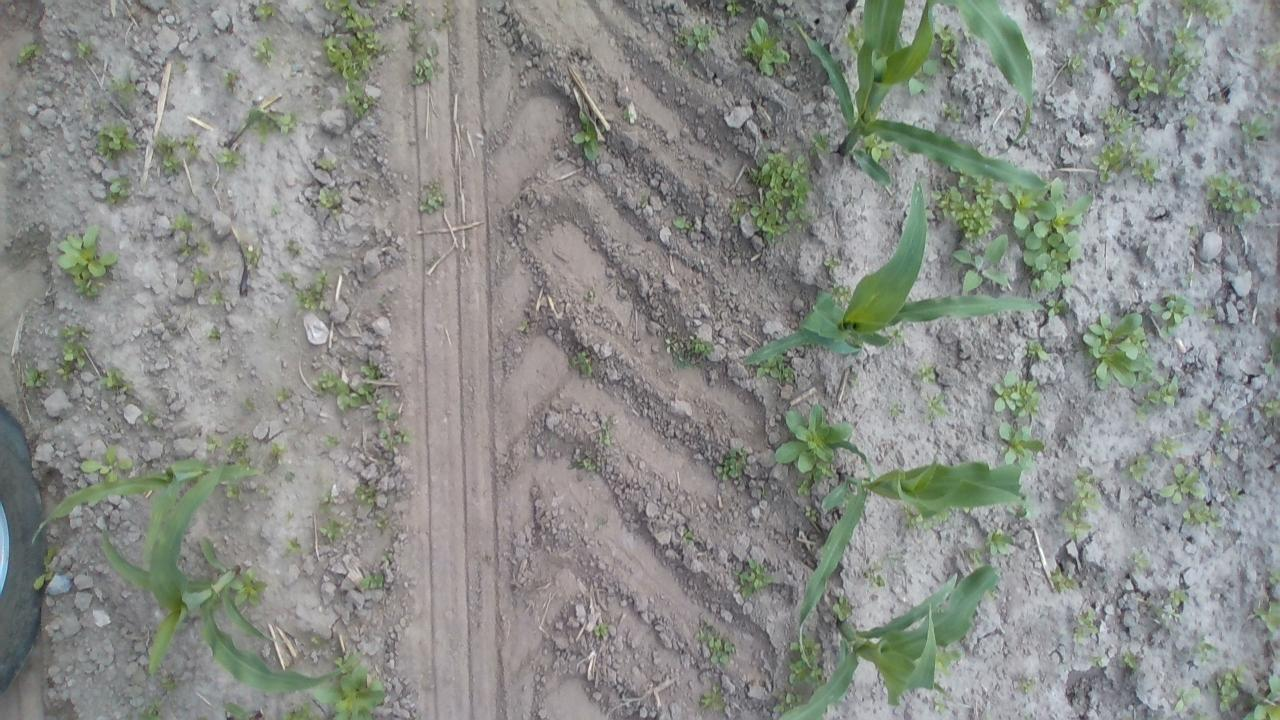Maize: (740, 179, 1048, 366), (798, 441, 1030, 668), (788, 0, 1052, 189), (96, 524, 364, 696), (774, 564, 1006, 720), (842, 0, 1036, 153), (32, 457, 266, 568), (221, 702, 261, 720)
Weeds: (999, 176, 1093, 292), (746, 145, 816, 246), (773, 403, 852, 483), (930, 163, 1001, 246), (324, 0, 394, 82), (1081, 310, 1152, 390), (314, 654, 388, 720), (56, 226, 118, 296), (1203, 170, 1262, 226), (952, 234, 1008, 293), (1162, 26, 1203, 100), (741, 16, 790, 76), (1060, 470, 1100, 540), (313, 370, 375, 410), (990, 369, 1040, 417), (1090, 136, 1140, 184), (786, 632, 828, 689), (998, 422, 1045, 472), (1116, 52, 1162, 100), (1132, 374, 1178, 422), (1076, 0, 1128, 39), (1150, 294, 1194, 340), (1207, 664, 1249, 712), (1159, 462, 1207, 504), (56, 325, 90, 382), (693, 620, 737, 664), (80, 444, 132, 481), (244, 107, 296, 143), (1241, 673, 1280, 720), (664, 334, 714, 369), (572, 109, 604, 162), (732, 557, 772, 599), (1177, 0, 1238, 27), (95, 121, 136, 160), (228, 568, 268, 606), (295, 269, 329, 311), (674, 21, 718, 53), (931, 22, 960, 70), (1183, 500, 1226, 532), (338, 80, 374, 118), (1096, 105, 1136, 138), (756, 353, 796, 384), (906, 58, 938, 96), (110, 66, 140, 106), (154, 132, 181, 176), (714, 448, 748, 482), (858, 130, 894, 162), (410, 47, 438, 85), (32, 545, 55, 590), (1254, 598, 1280, 632), (1006, 491, 1036, 520), (770, 690, 806, 714), (318, 186, 343, 220), (840, 21, 865, 55), (1074, 608, 1098, 643), (922, 390, 948, 422), (418, 181, 443, 214), (1240, 116, 1268, 145), (1132, 156, 1160, 184), (1122, 454, 1150, 482), (1050, 566, 1078, 594), (378, 428, 412, 451), (106, 176, 132, 206), (1151, 435, 1183, 459), (318, 517, 350, 541), (862, 560, 888, 589), (1190, 636, 1218, 662), (566, 350, 594, 376), (281, 701, 318, 720), (986, 529, 1013, 555), (214, 146, 242, 171), (699, 684, 725, 710), (1022, 338, 1050, 362), (1173, 688, 1200, 712), (373, 398, 400, 422), (252, 36, 276, 63), (136, 697, 164, 720), (832, 594, 854, 622), (1126, 548, 1150, 573), (1264, 336, 1280, 373), (23, 366, 48, 389), (828, 282, 854, 304), (406, 21, 424, 52), (1060, 54, 1085, 76), (1259, 41, 1280, 67), (1166, 586, 1190, 608), (884, 322, 904, 348), (923, 510, 949, 530), (98, 368, 124, 388), (941, 100, 964, 122), (915, 362, 937, 384), (353, 483, 374, 506), (809, 132, 830, 155), (169, 212, 193, 232), (17, 44, 41, 64), (183, 133, 198, 164), (1044, 297, 1068, 316), (254, 0, 274, 22), (729, 197, 744, 226), (358, 573, 384, 589), (245, 246, 262, 270), (596, 421, 612, 446), (190, 268, 212, 286), (570, 457, 596, 472), (823, 253, 840, 275), (796, 473, 812, 496), (177, 234, 192, 258), (361, 360, 382, 377), (317, 492, 333, 514), (966, 545, 984, 564), (1056, 0, 1076, 17), (1263, 398, 1280, 418), (226, 436, 247, 452), (284, 536, 302, 554), (220, 68, 238, 86), (160, 676, 178, 694), (1195, 410, 1211, 429), (725, 0, 744, 16), (674, 216, 694, 231), (905, 514, 923, 530), (1183, 113, 1199, 131), (1121, 650, 1137, 668), (205, 435, 223, 451), (142, 408, 156, 428), (804, 505, 820, 522), (210, 289, 226, 306), (196, 236, 211, 254), (1129, 0, 1144, 17), (274, 385, 289, 402), (226, 481, 240, 499), (1193, 710, 1218, 720), (1198, 307, 1217, 320), (934, 694, 946, 714), (390, 3, 407, 17), (318, 156, 337, 168), (1266, 568, 1280, 584), (888, 402, 902, 418), (1220, 420, 1234, 436), (270, 442, 286, 456), (276, 271, 296, 282), (1087, 654, 1102, 668), (1020, 678, 1034, 693), (325, 434, 340, 448), (206, 325, 220, 340), (270, 202, 284, 217), (1228, 487, 1244, 500), (681, 528, 694, 544), (78, 41, 90, 58), (594, 622, 608, 636), (286, 238, 300, 251), (1152, 605, 1164, 620), (848, 373, 861, 386), (964, 28, 978, 40), (676, 58, 690, 70), (1213, 453, 1224, 467), (1186, 226, 1198, 238), (242, 398, 254, 410), (310, 635, 324, 645), (236, 455, 250, 465), (122, 380, 133, 392), (984, 588, 996, 599), (622, 108, 632, 120), (934, 603, 946, 613), (902, 146, 912, 157), (376, 520, 386, 529), (97, 100, 107, 109), (519, 320, 528, 330), (284, 472, 294, 480), (904, 502, 911, 513), (258, 485, 266, 494), (316, 103, 326, 110), (178, 62, 185, 72), (641, 194, 649, 202), (430, 22, 440, 28), (381, 554, 389, 561), (761, 488, 767, 497), (963, 507, 970, 514), (1022, 715, 1028, 720)
